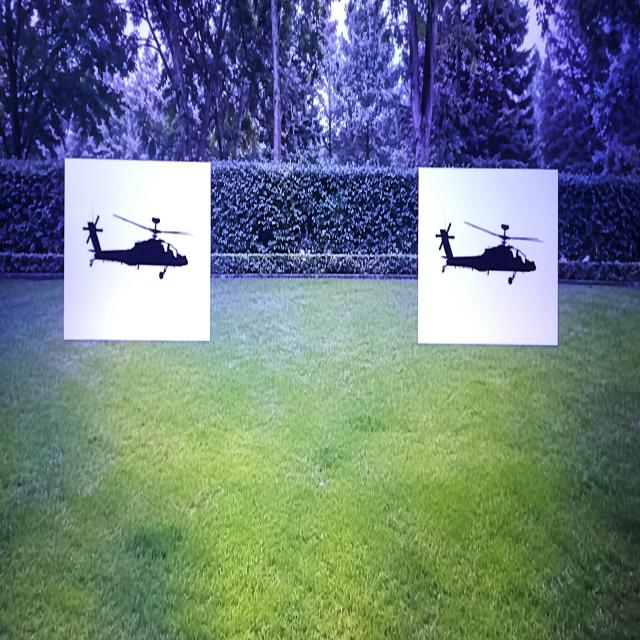Apache friendly: (83, 214, 188, 279), (436, 223, 542, 284)
